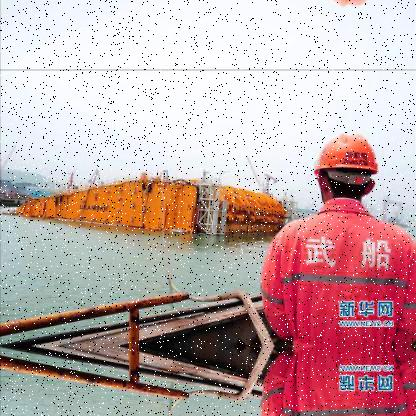Helmet: (302, 127, 384, 224)
